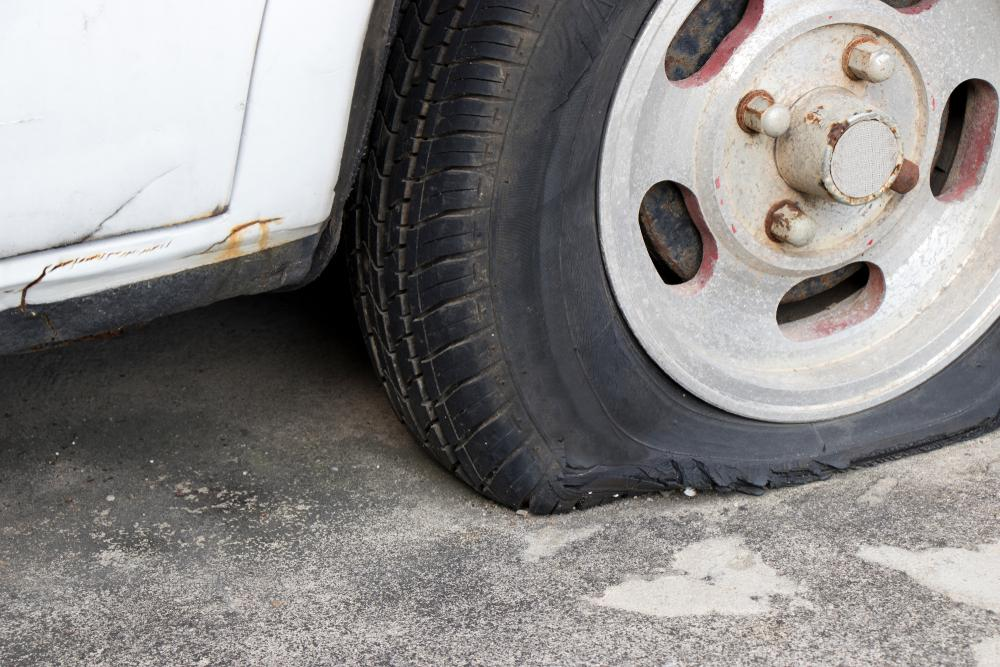tire flat: (354, 0, 1000, 521)
